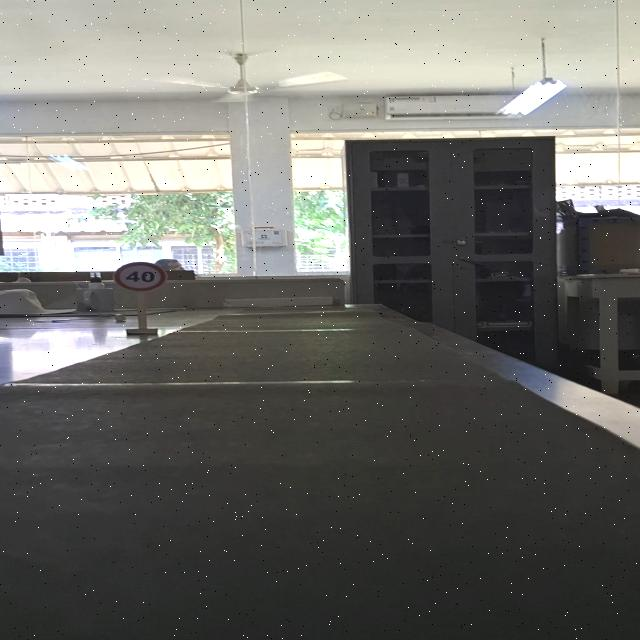Speed40: (112, 260, 169, 294)
